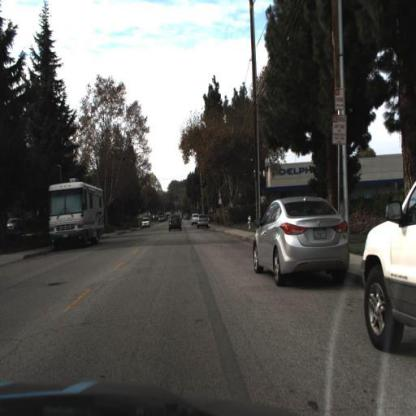car: (363, 170, 416, 356), (251, 196, 352, 290), (165, 210, 187, 236), (197, 214, 210, 232), (191, 211, 201, 228), (142, 217, 153, 231)
truck: (47, 175, 106, 250)
